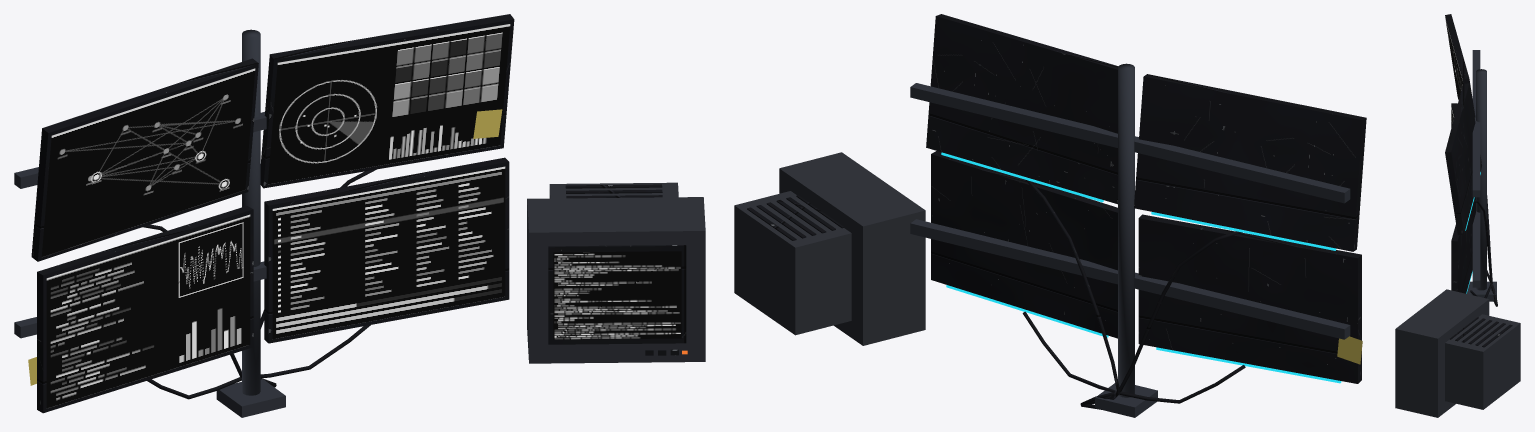
File: Tech_MonitorStack.gltf
3 renders of one model, left to right at view 1: azimuth 30°, elevation 25°; view 2: azimuth 150°, elevation 25°; view 3: azimuth 270°, elevation 25°, orthographic. The views are drawn at different scales.
Visible parts, largest first — view 1: Tech_MonitorStack; view 2: Tech_MonitorStack; view 3: Tech_MonitorStack.
Part boxes in pixels (left/top/right/bottom): Tech_MonitorStack: left=14, top=14, right=705, bottom=417; Tech_MonitorStack: left=734, top=14, right=1366, bottom=417; Tech_MonitorStack: left=1395, top=14, right=1520, bottom=417.
Size of the model in its own units: 1.83 by 0.9696 by 0.4899.
Materials: 11 (6 with a texture image).
